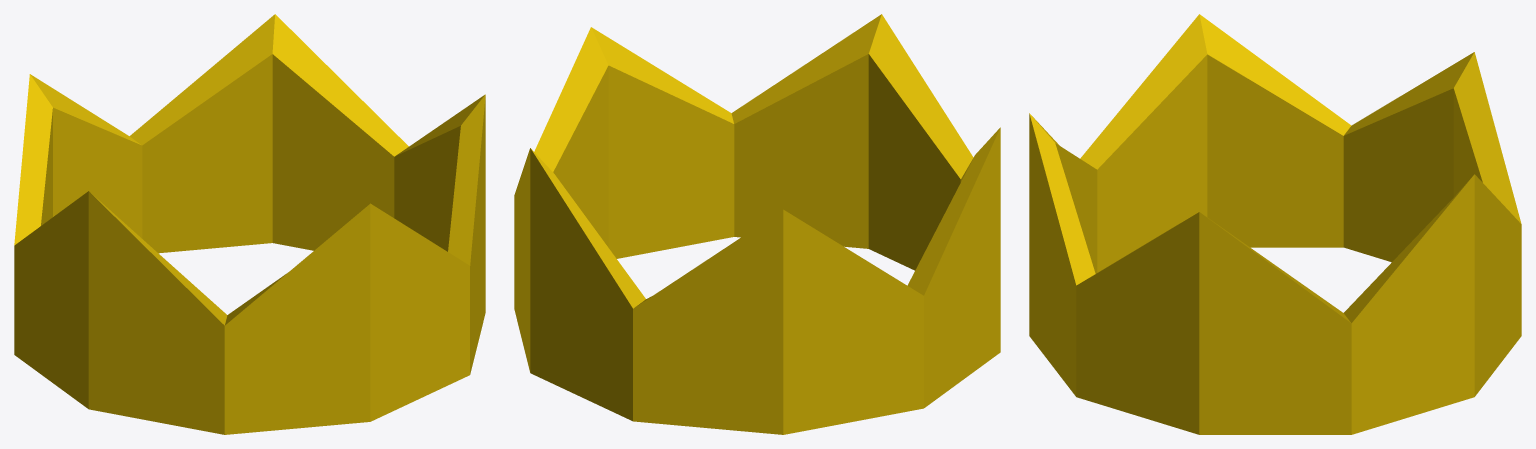
Rendered from kroon.fbx.
3 views of the same model, side by side, from view 1: azimuth 30°, elevation 25°; view 2: azimuth 150°, elevation 25°; view 3: azimuth 270°, elevation 25° (orthographic). The views are drawn at different scales.
Parts seen in each view (by area): view 1: Cylinder; view 2: Cylinder; view 3: Cylinder.
Boxes of the visible parts, bbox=[...] form: Cylinder: bbox=[14, 14, 485, 434]; Cylinder: bbox=[514, 14, 1000, 434]; Cylinder: bbox=[1029, 14, 1521, 434].
Bounding box in the file's own units: 0.1899 × 0.0998 × 0.1997.
